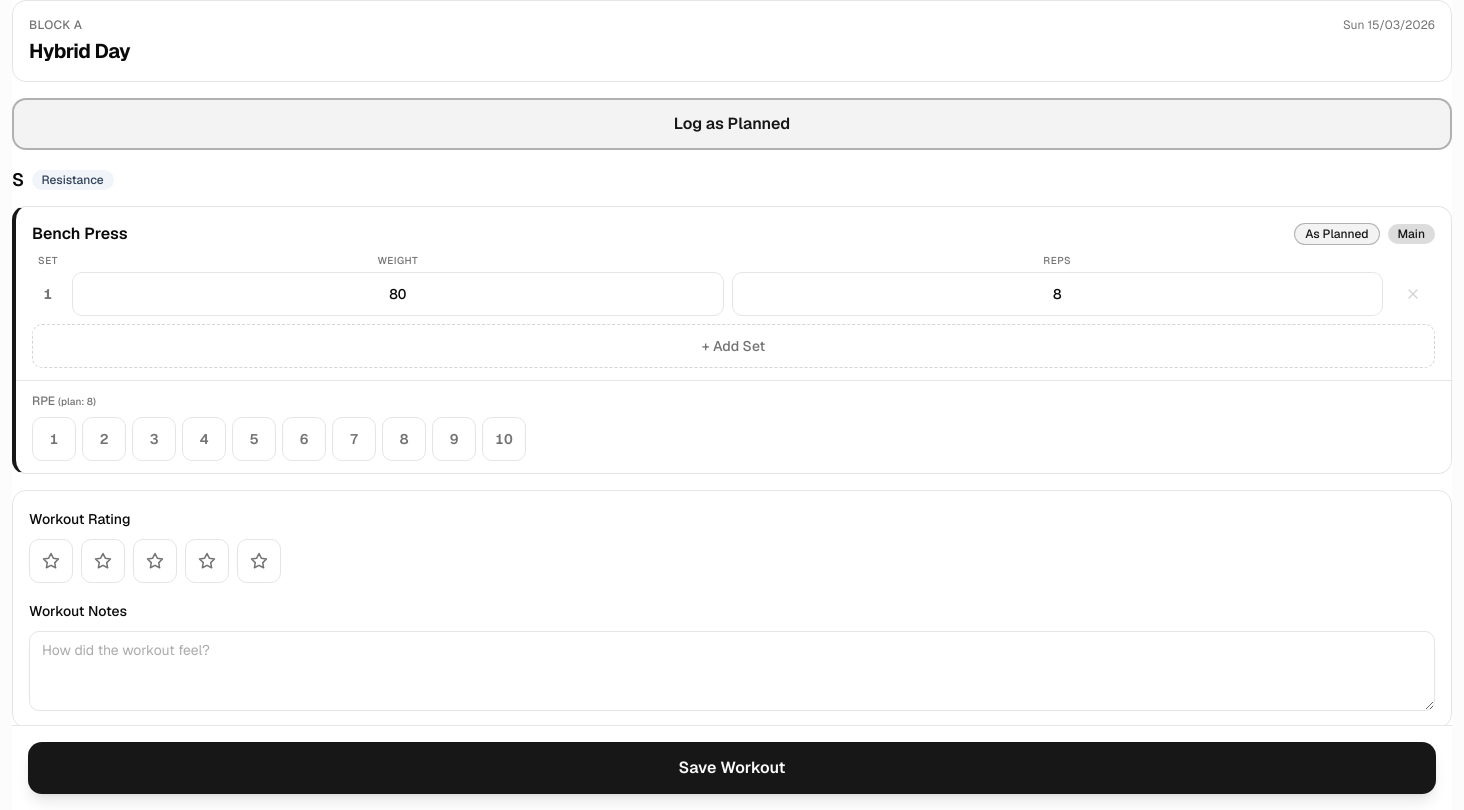
Test: MixedLoggingForm — characterization › resistance: Add Set copies last set values
The width and height of the screenshot is (1464, 810).
# Clear autofilled values and type new ones
Clear the field with test id "weight-input-0-0-0". click: (398, 294)
box: [72, 272, 724, 316]
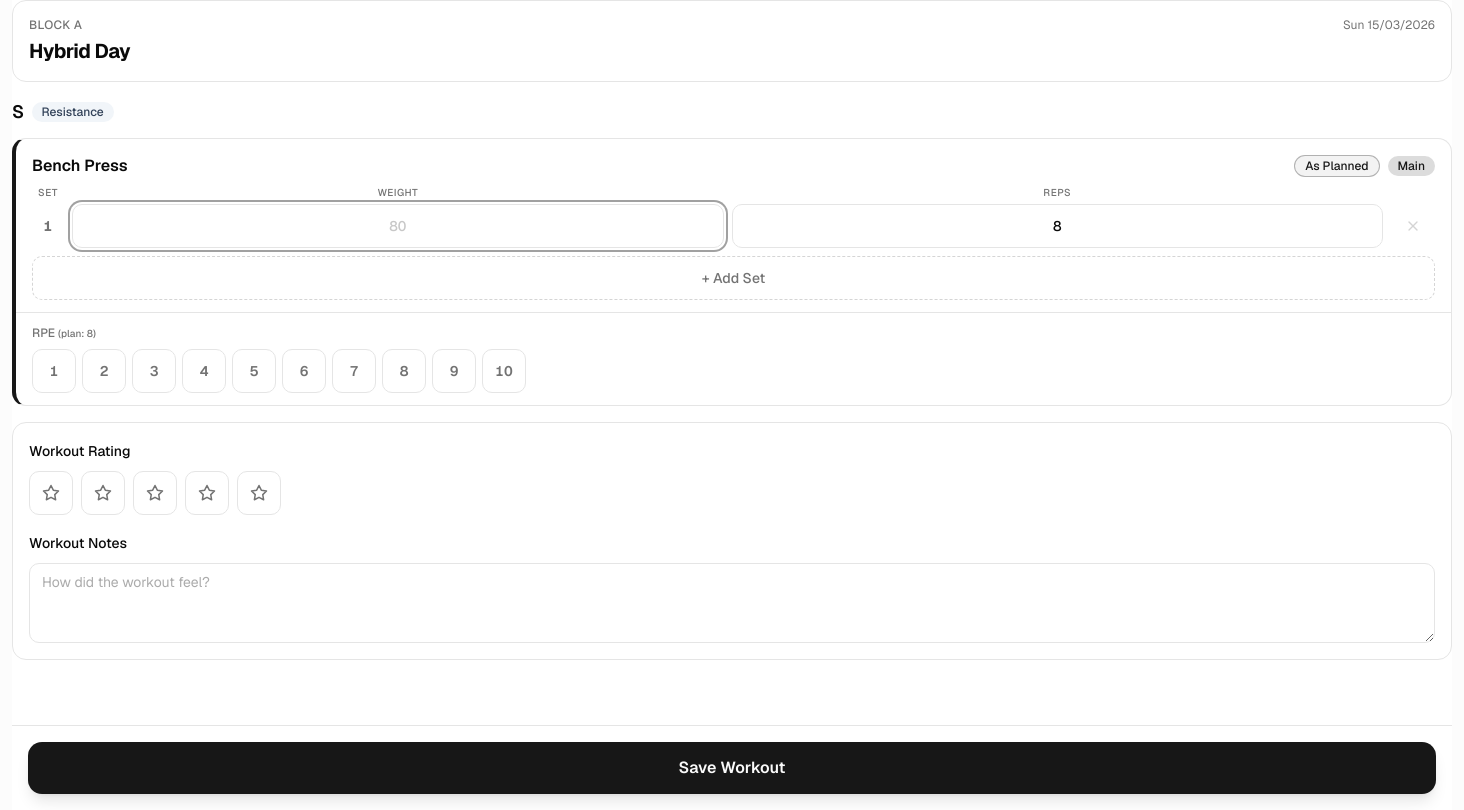
Type "90" into the field with test id "weight-input-0-0-0". click: (398, 226)
box: [72, 204, 724, 248]
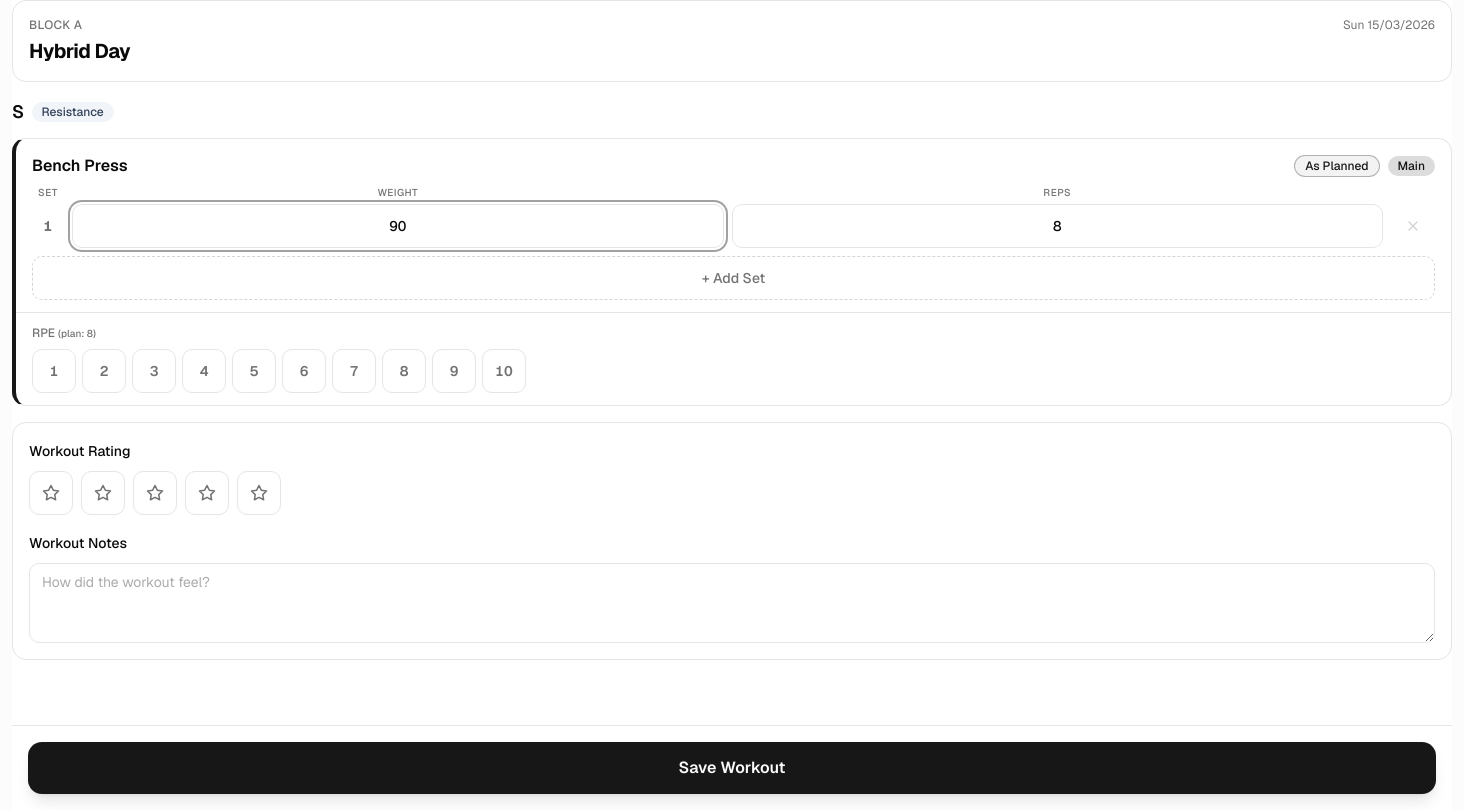
Type "5" into the field with test id "reps-input-0-0-0". click: (1057, 226)
box: [732, 204, 1383, 248]
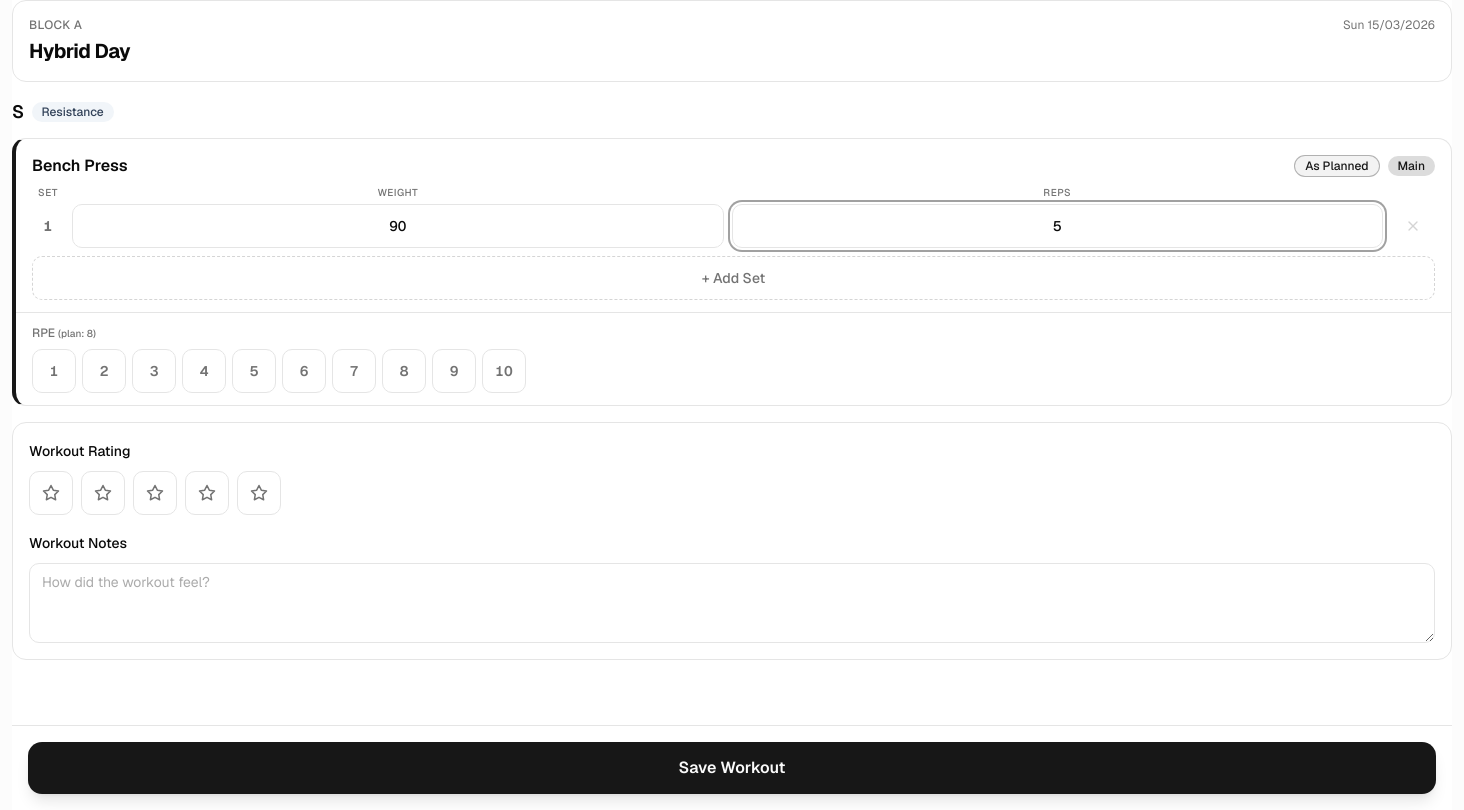
#  Add set
Click the button "+ Add Set". click: (734, 278)
box: [32, 256, 1435, 300]
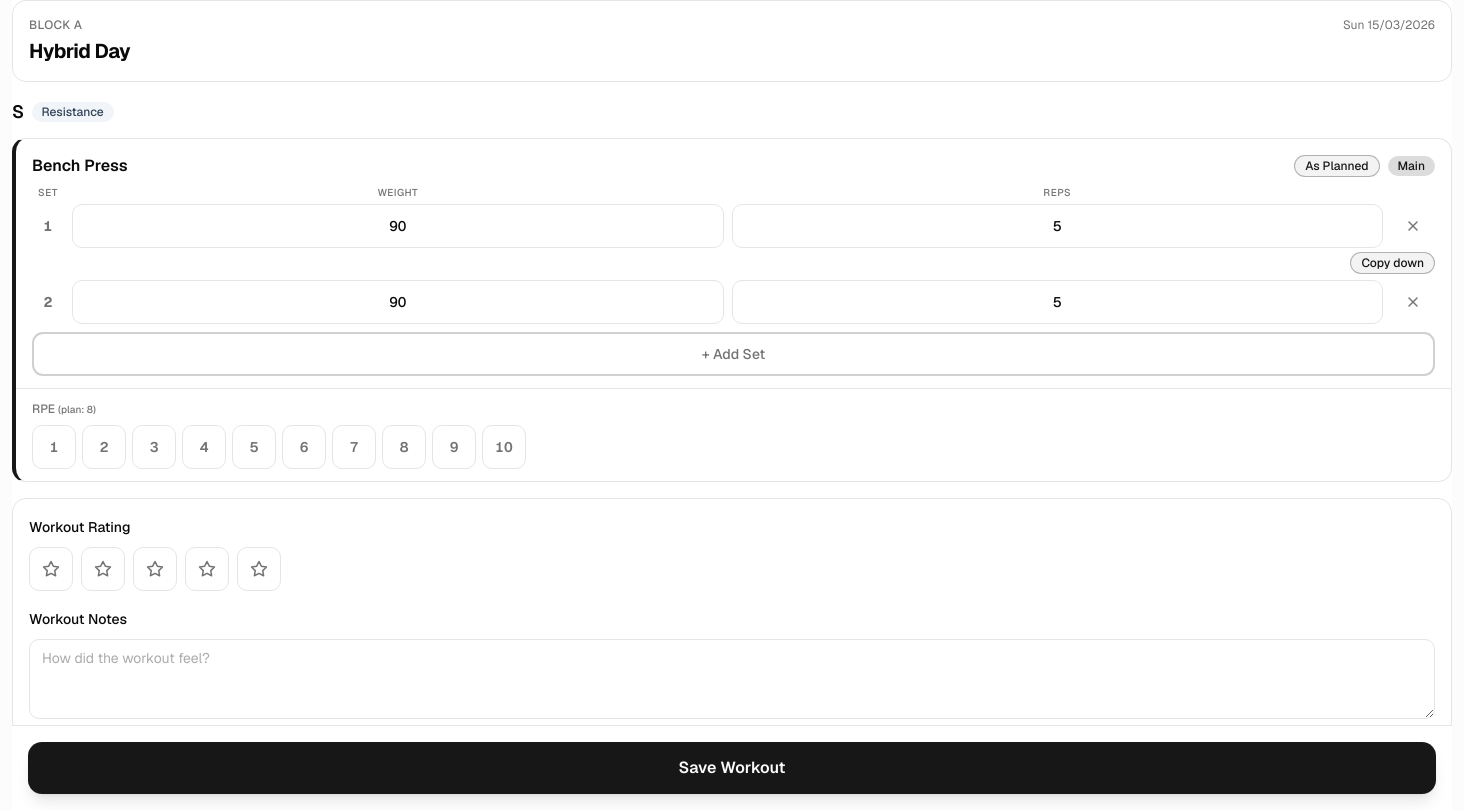
Now the field with test id "weight-input-0-0-1" holds "90", box [72, 280, 724, 324]
Now the field with test id "reps-input-0-0-1" holds "5", box [732, 280, 1383, 324]
